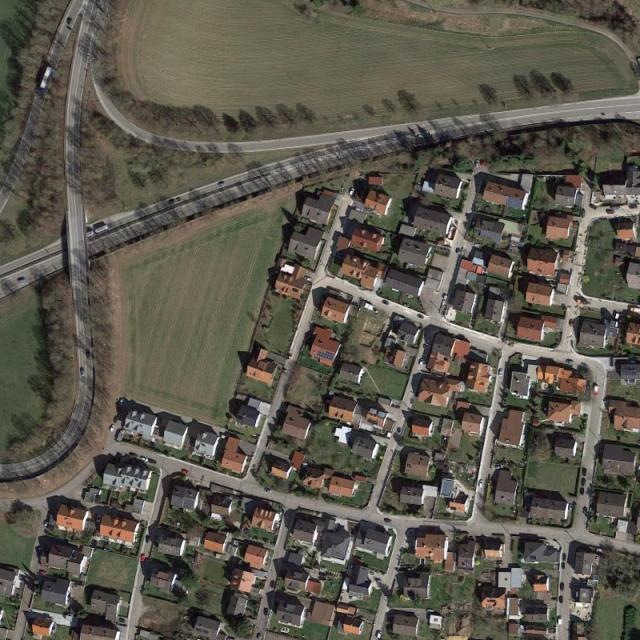vehicle: (41, 67, 51, 88), (96, 225, 109, 234), (566, 358, 575, 366), (349, 186, 355, 198), (217, 181, 226, 189), (263, 487, 272, 494), (129, 452, 138, 459), (147, 458, 157, 464), (382, 299, 390, 306), (377, 630, 383, 639), (559, 582, 565, 591), (474, 159, 480, 168), (582, 467, 587, 477), (263, 607, 268, 617), (579, 487, 585, 495), (140, 455, 148, 461), (594, 386, 599, 395), (18, 278, 27, 283), (145, 534, 150, 543), (558, 617, 562, 628), (418, 314, 425, 320), (581, 478, 586, 486), (303, 277, 311, 282), (498, 369, 503, 377), (181, 469, 189, 474), (559, 595, 563, 604), (270, 579, 274, 588), (257, 633, 262, 640), (81, 368, 85, 376), (562, 554, 566, 562), (110, 425, 115, 431), (562, 562, 566, 569), (67, 18, 71, 24), (142, 554, 145, 561), (95, 1, 100, 2)
